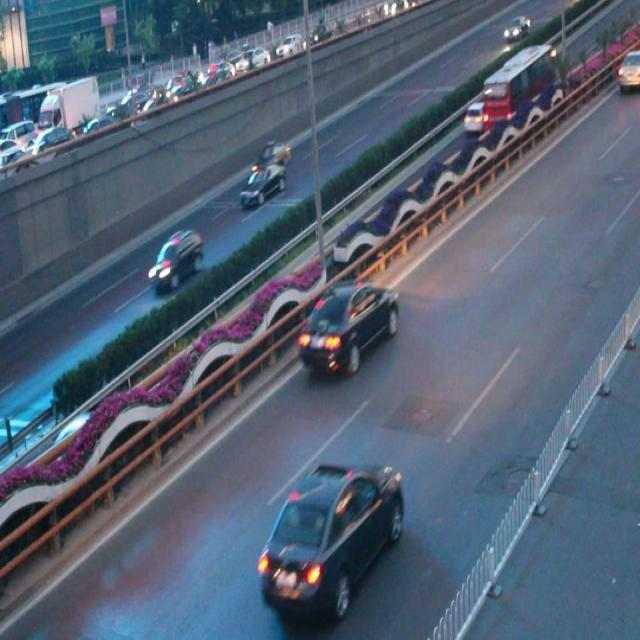car: (260, 461, 402, 612), (299, 281, 396, 372), (148, 227, 204, 289), (238, 165, 286, 206), (256, 138, 292, 173), (460, 100, 486, 136)
van: (481, 46, 558, 125)
